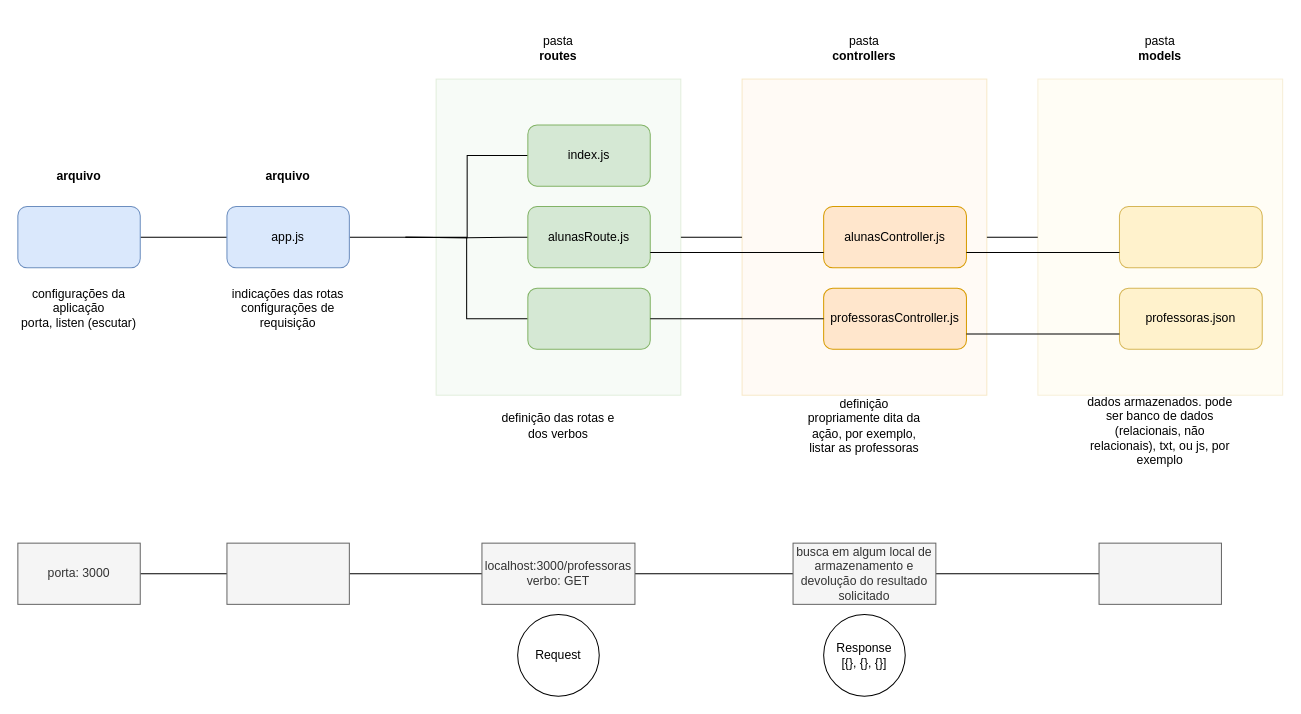
Image size: 1301x714. Some labels were removed from this diagram. Each missing label, with the centre of its shape:
alunas.json: the point at 1190,237
armazenamento da informação: the point at 1159,573
localhost:3000: the point at 287,573
professorasRoute.js: the point at 588,318
server.js: the point at 78,237
